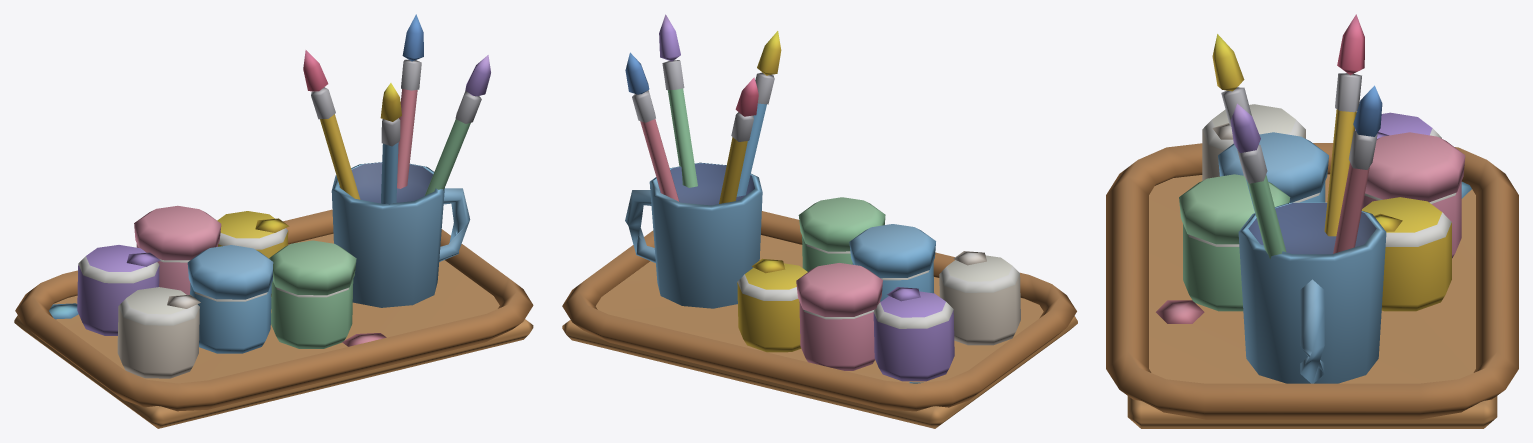
The model's file is furn-paintPots.glb.
3 views of the same model, side by side, from view 1: azimuth 30°, elevation 25°; view 2: azimuth 150°, elevation 25°; view 3: azimuth 270°, elevation 25° (orthographic). The views are drawn at different scales.
Visible parts, largest first — view 1: furn-paintPots; view 2: furn-paintPots; view 3: furn-paintPots.
Part boxes in pixels (left/top/right/bottom): furn-paintPots: left=14, top=14, right=533, bottom=428; furn-paintPots: left=562, top=14, right=1077, bottom=428; furn-paintPots: left=1106, top=14, right=1518, bottom=428.
Bounding box in the file's own units: 0.312 × 0.1893 × 0.212.
